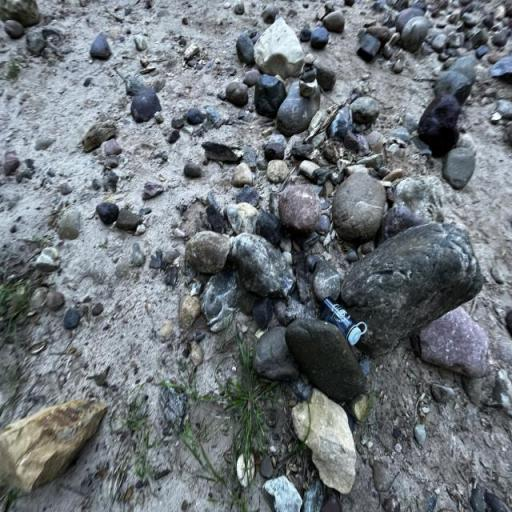bottle: (319, 296, 367, 346)
